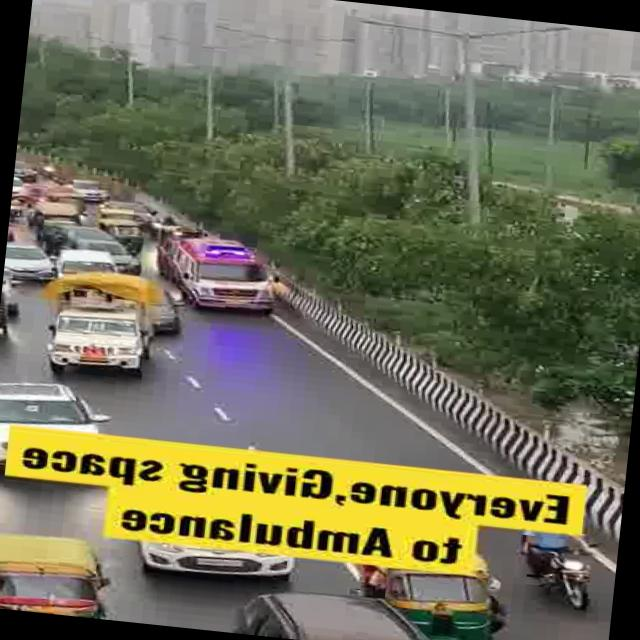ambulance: (158, 230, 284, 316)
